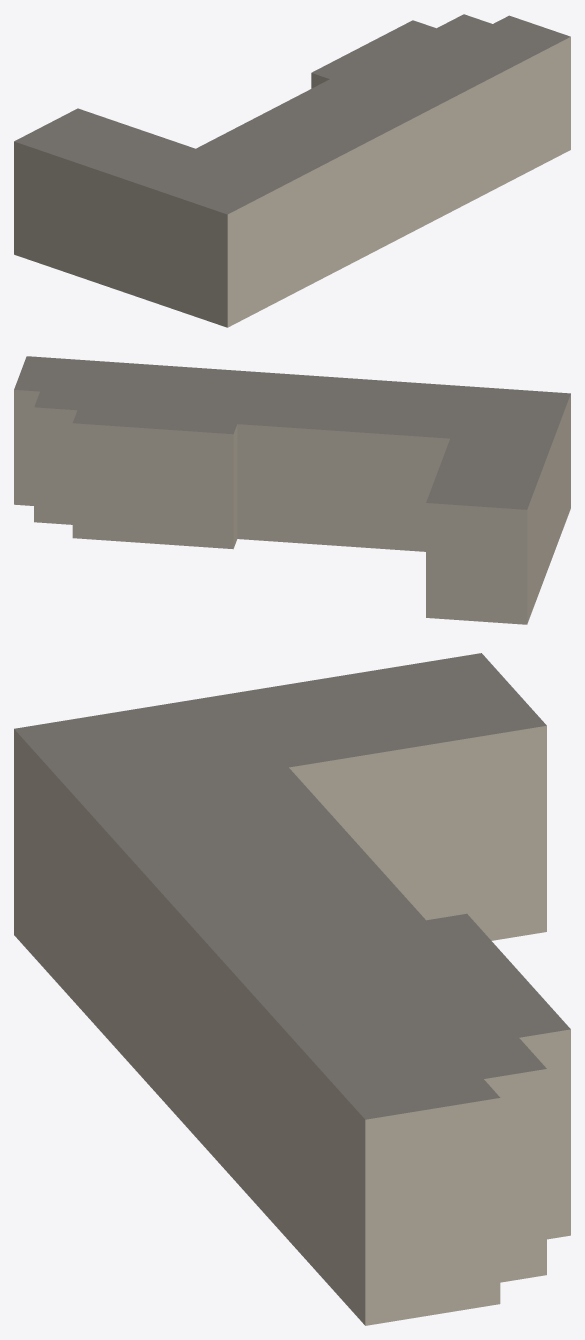
3 views of the same model, one above another, from view 1: azimuth 30°, elevation 25°; view 2: azimuth 150°, elevation 25°; view 3: azimuth 270°, elevation 25° (orthographic). The views are drawn at different scales.
Parts seen in each view (by area): view 1: HP-w1216207226; view 2: HP-w1216207226; view 3: HP-w1216207226.
Boxes of the visible parts, bbox=[...] form: HP-w1216207226: bbox=[14, 14, 570, 327]; HP-w1216207226: bbox=[14, 356, 570, 624]; HP-w1216207226: bbox=[14, 653, 570, 1325].
Size of the model in its own units: 87.36 by 18 by 44.06.
